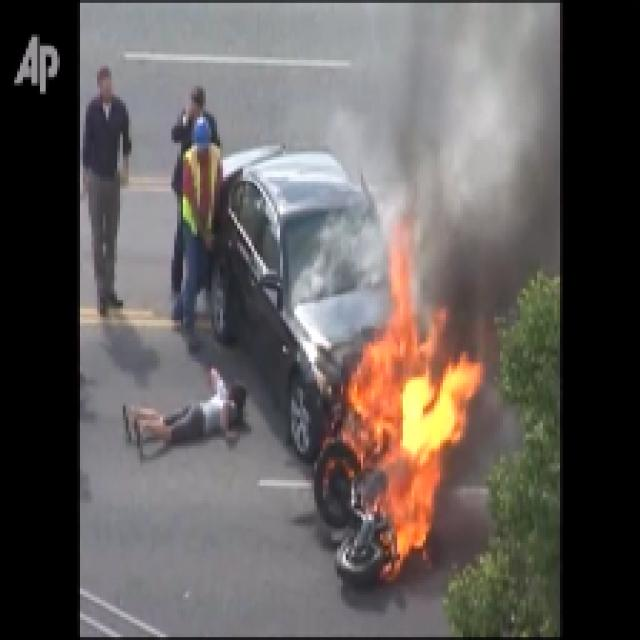fire: (356, 326, 450, 563)
smoke: (430, 28, 541, 277)
